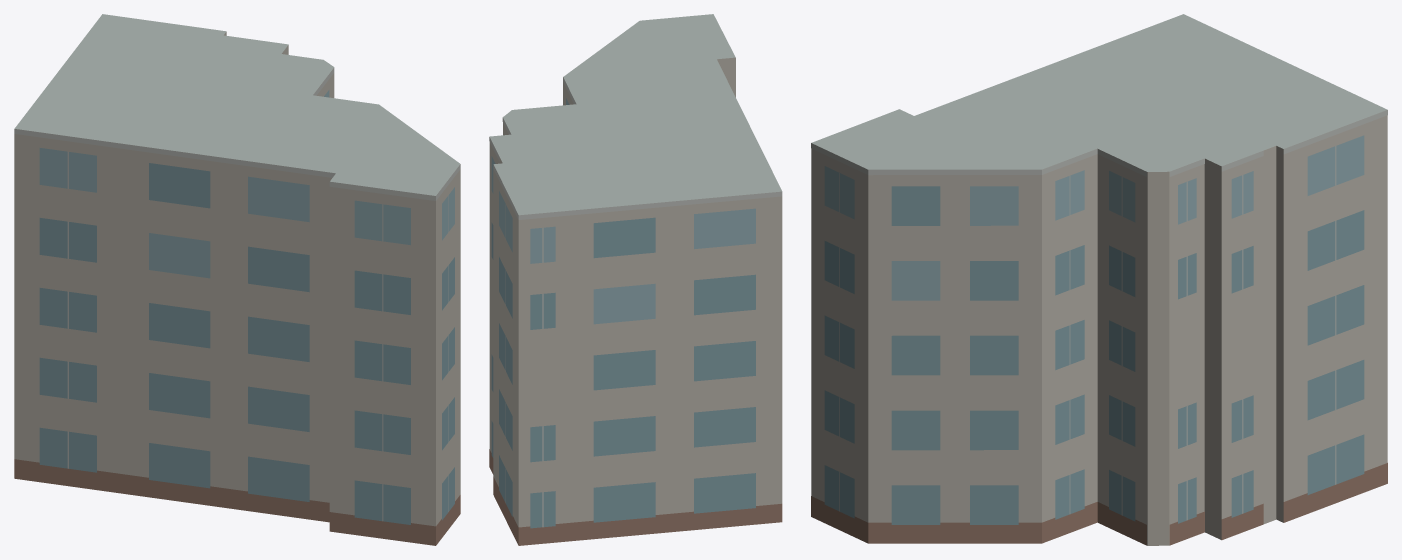
The model's file is survey-upis-32756829.glb.
3 views of the same model, side by side, from view 1: azimuth 30°, elevation 25°; view 2: azimuth 150°, elevation 25°; view 3: azimuth 270°, elevation 25° (orthographic). The views are drawn at different scales.
Parts seen in each view (by area): view 1: survey-upis-32756829.tmp; view 2: survey-upis-32756829.tmp; view 3: survey-upis-32756829.tmp.
Boxes of the visible parts, x1,y1,x2,y2 form: survey-upis-32756829.tmp: (14,14,460,545); survey-upis-32756829.tmp: (489,14,782,545); survey-upis-32756829.tmp: (811,14,1387,545).
Bounding box in the file's own units: 15.24 × 16.8 × 23.49.
